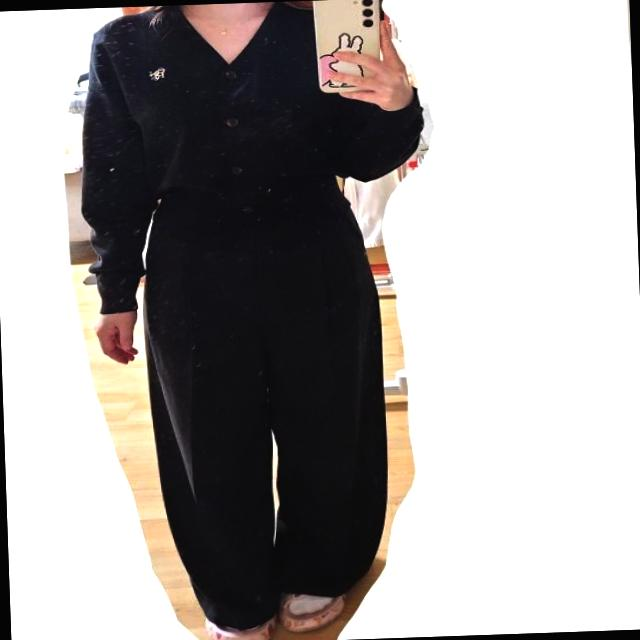cardigan: (71, 0, 427, 316)
slacks: (142, 173, 392, 632)
